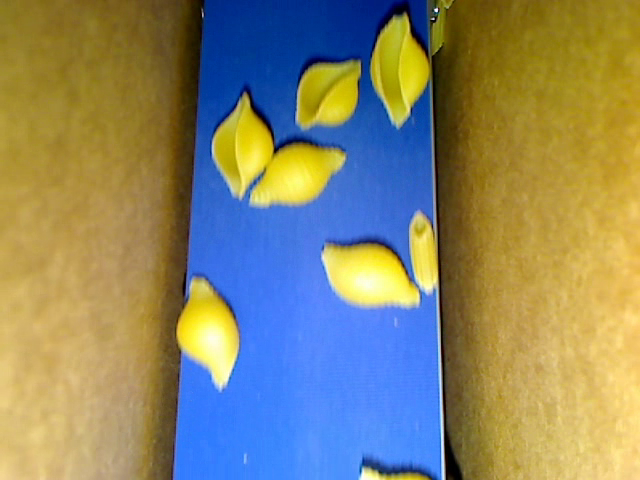penne: (405, 209, 441, 294), (429, 1, 443, 56), (442, 1, 454, 16)
shell: (171, 271, 242, 393), (317, 238, 419, 310), (369, 10, 429, 129), (211, 85, 274, 198), (247, 143, 344, 207), (294, 59, 363, 132), (352, 458, 433, 479)
